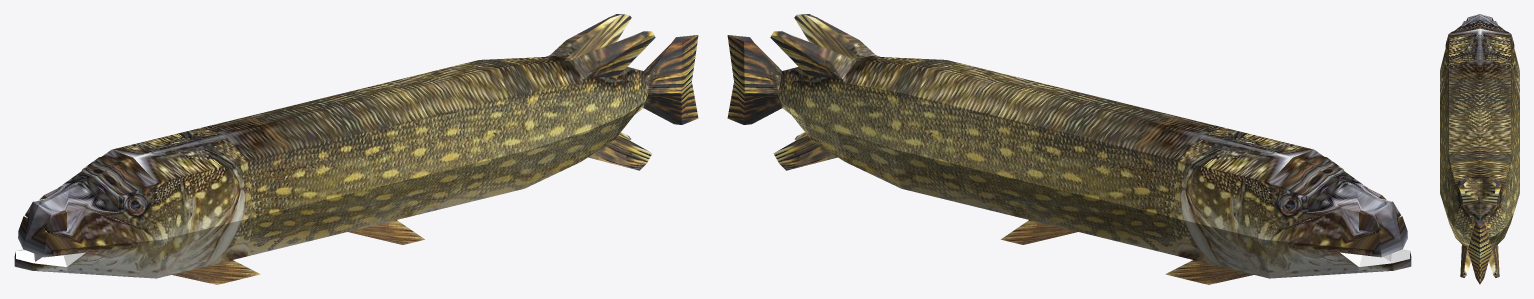
File: snoek.obj
The picture shows the model from 3 angles, left to right: view 1: azimuth 30°, elevation 25°; view 2: azimuth 150°, elevation 25°; view 3: azimuth 270°, elevation 25°; orthographic projection. The views are drawn at different scales.
Visible parts, largest first — view 1: Object; view 2: Object; view 3: Object.
Boxes of the visible parts, <box> form: Object: <box>14,14,698,284</box>; Object: <box>727,14,1411,284</box>; Object: <box>1440,14,1519,284</box>.
Bounding box in the file's own units: 1.68 × 0.3475 × 0.2491.
Materials: 1 (1 with a texture image).
